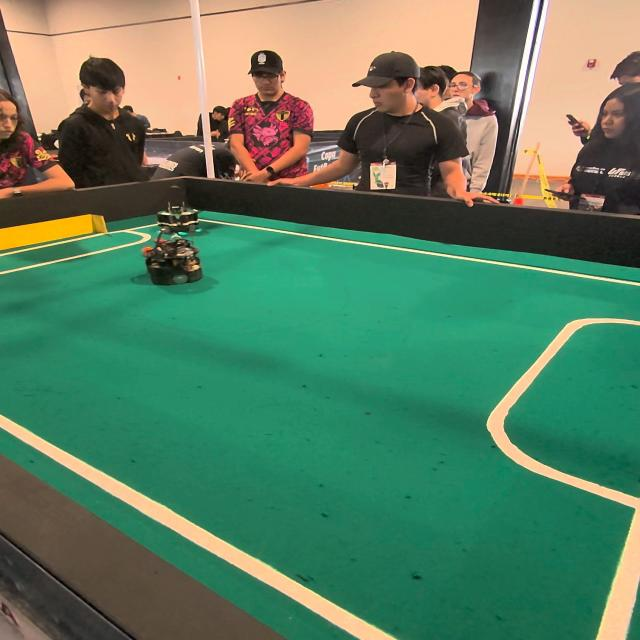Robot: (138, 228, 205, 286), (152, 179, 202, 236)
